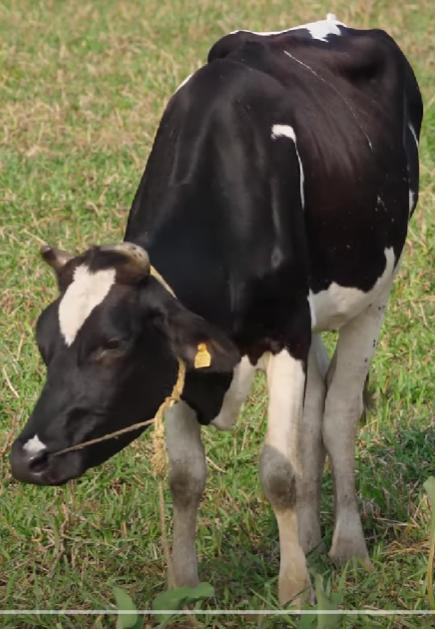cow: (11, 27, 421, 610)
